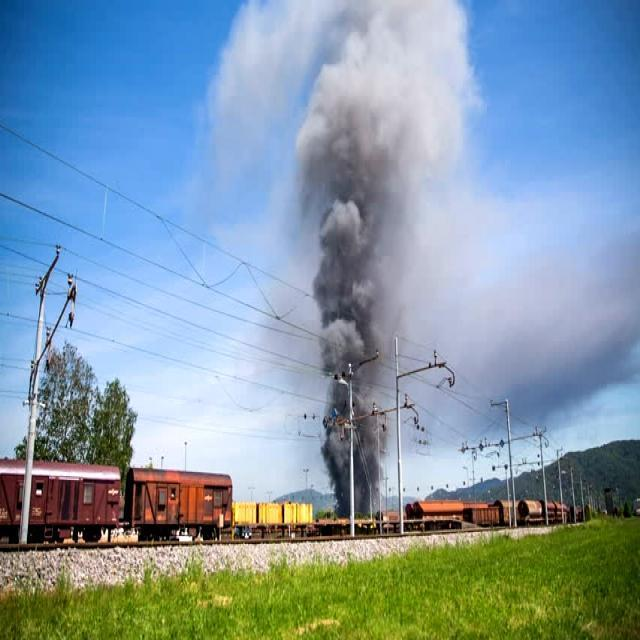Smoke: (293, 51, 432, 516)
